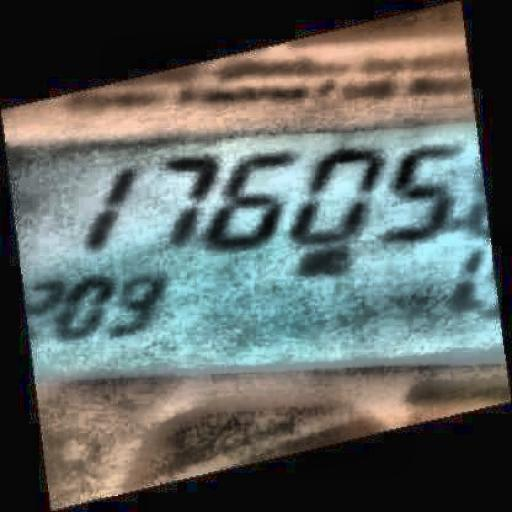DISPLAY_REGION: (5, 116, 509, 388)
SERIAL_REGION: (74, 137, 489, 249)
